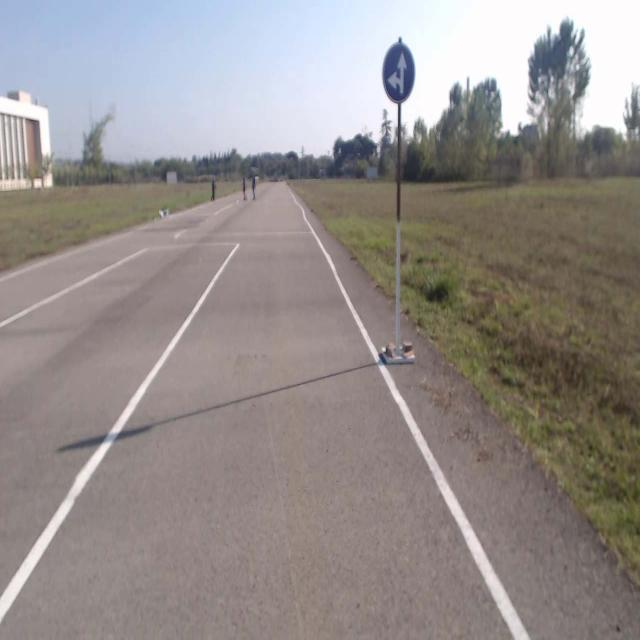ilerisol: (382, 39, 414, 101)
